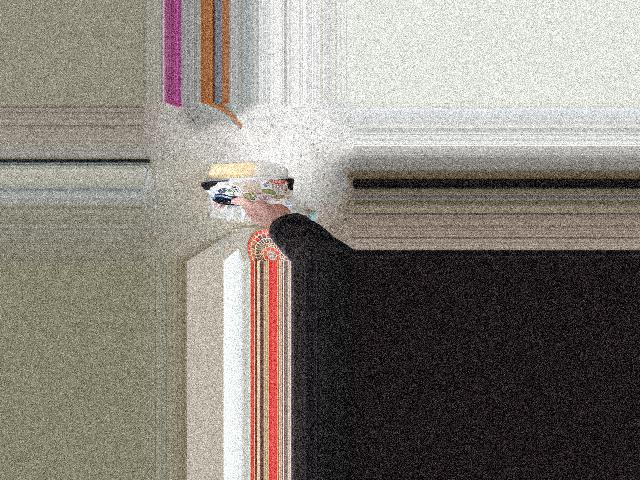cheese: (197, 137, 304, 228)
